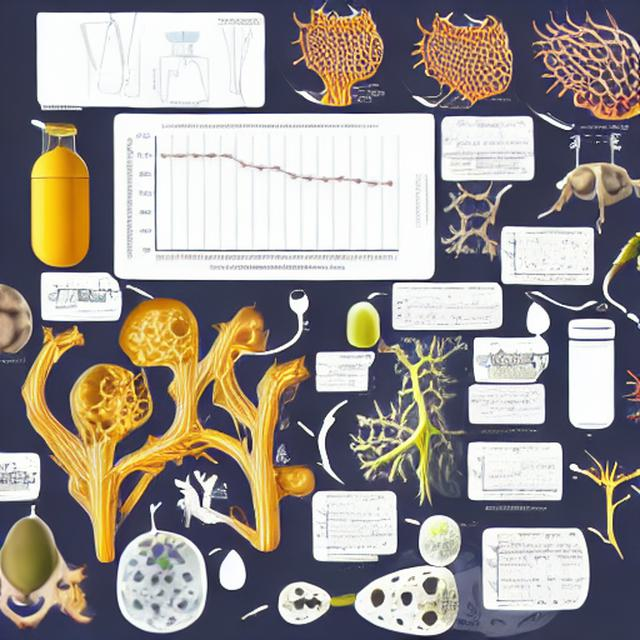Graph: (119, 117, 405, 278), (471, 445, 562, 498), (503, 230, 593, 283), (143, 51, 224, 107)
